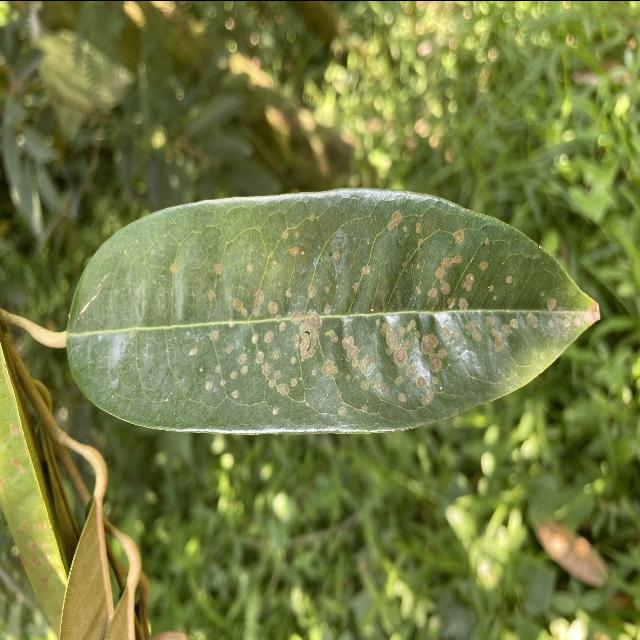Algal Leaf Spot: (51, 174, 613, 441)
